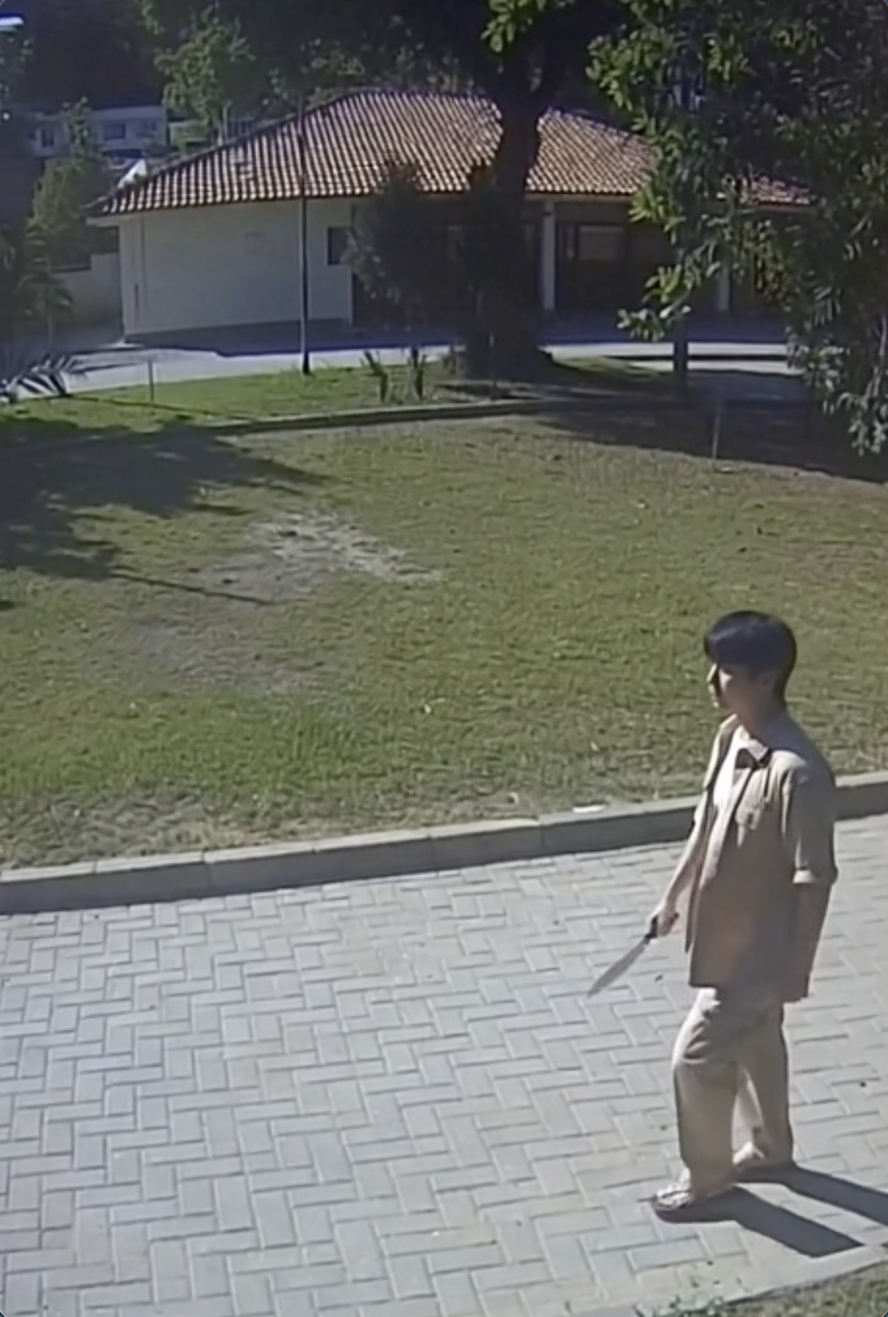Heavy Gun: (639, 602, 839, 1219)
Knife: (578, 907, 687, 1002)
